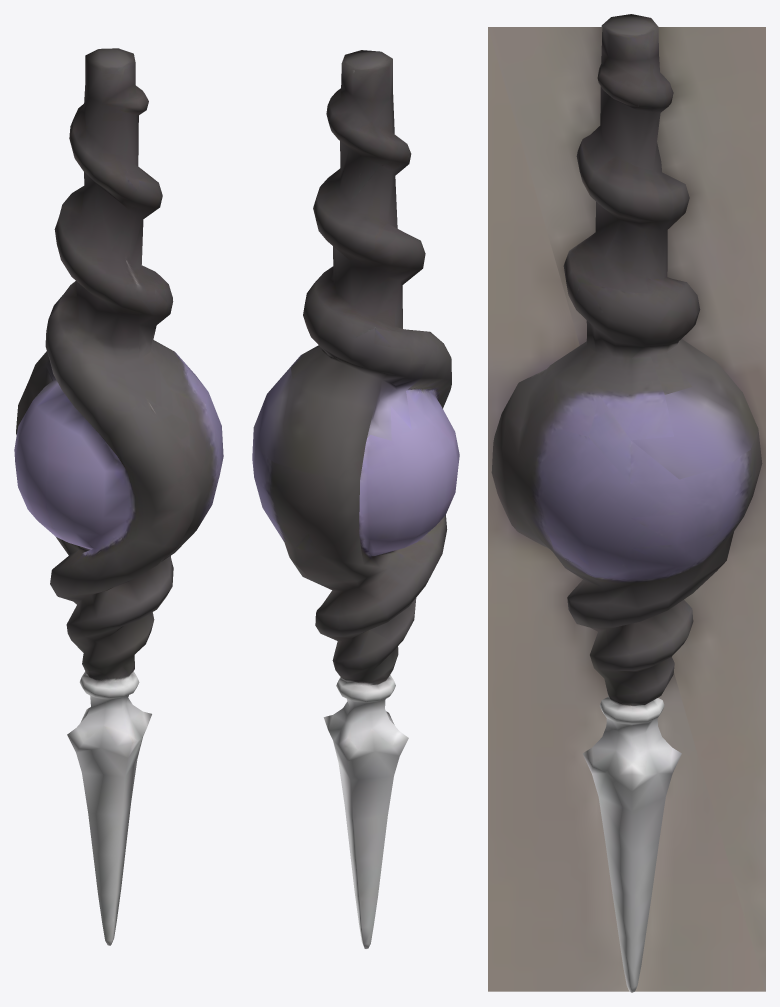
File: cosmarch_spire_of_the_endless_void.glb
3 renders of one model, left to right at view 1: azimuth 30°, elevation 25°; view 2: azimuth 150°, elevation 25°; view 3: azimuth 270°, elevation 25°, orthographic. The views are drawn at different scales.
Parts seen in each view (by area): view 1: tripo_node_64fe5ece-82e9-483a-99ed-207b363cff58; view 2: tripo_node_64fe5ece-82e9-483a-99ed-207b363cff58; view 3: tripo_node_64fe5ece-82e9-483a-99ed-207b363cff58.
Part boxes in pixels (left/top/right/bottom): tripo_node_64fe5ece-82e9-483a-99ed-207b363cff58: left=14, top=48, right=223, bottom=945; tripo_node_64fe5ece-82e9-483a-99ed-207b363cff58: left=252, top=50, right=459, bottom=949; tripo_node_64fe5ece-82e9-483a-99ed-207b363cff58: left=488, top=14, right=765, bottom=992.
Size of the model in its own units: 0.4867 by 2.28 by 0.5937.
1 material, 1 textured.
